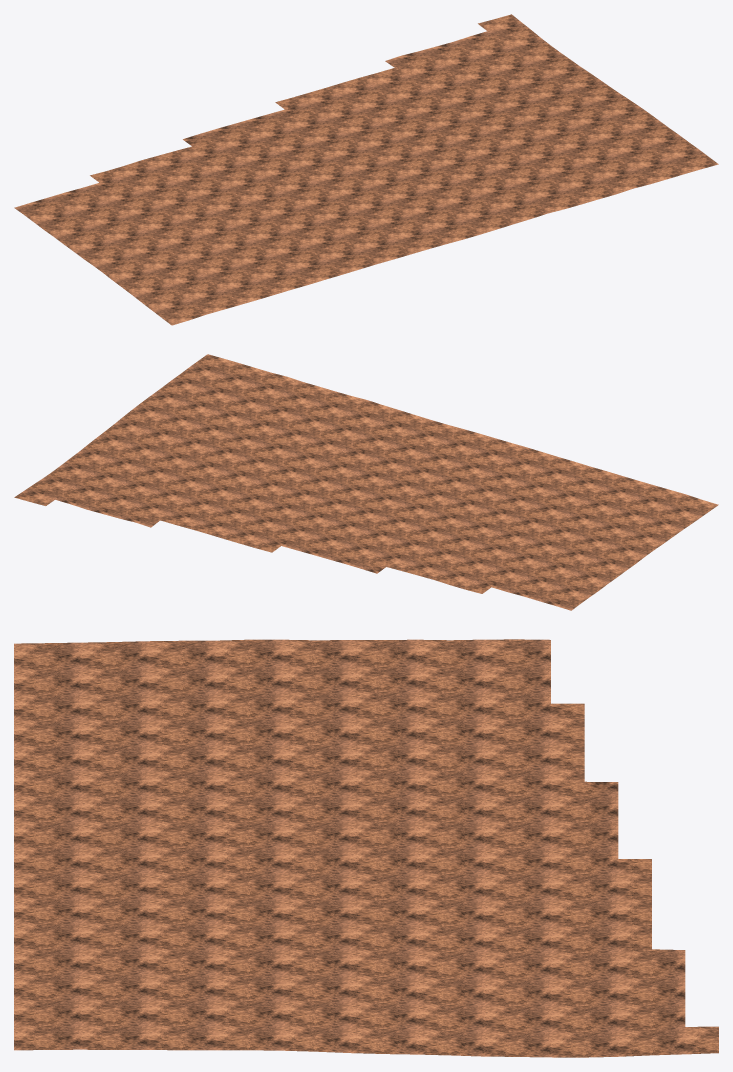
The model's file is terrain_11_11.dae.
3 views of the same model, one above another, from view 1: azimuth 30°, elevation 25°; view 2: azimuth 150°, elevation 25°; view 3: azimuth 270°, elevation 25° (orthographic). The views are drawn at different scales.
Visible parts, largest first — view 1: terrain_11_11-node; view 2: terrain_11_11-node; view 3: terrain_11_11-node.
Boxes of the visible parts, x1=… form: terrain_11_11-node: x1=14, y1=14, x2=718, y2=325; terrain_11_11-node: x1=14, y1=354, x2=718, y2=610; terrain_11_11-node: x1=14, y1=639, x2=718, y2=1057.
Bounding box in the file's own units: 128 × 84 × 6.29.
Materials: 1 (1 with a texture image).
